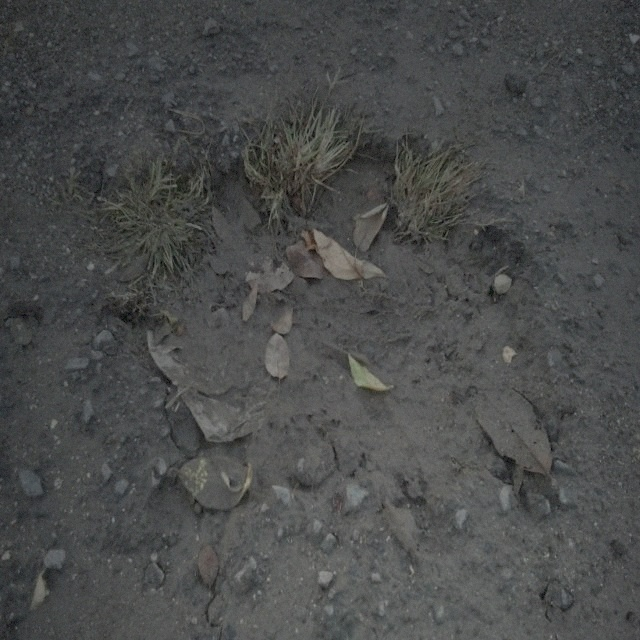pothole: (106, 86, 553, 524)
